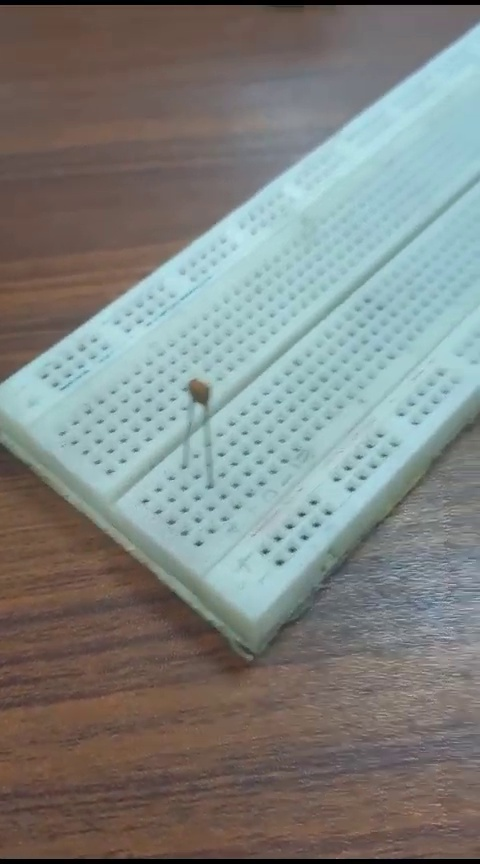ceramic capacitor: (164, 375, 254, 440)
